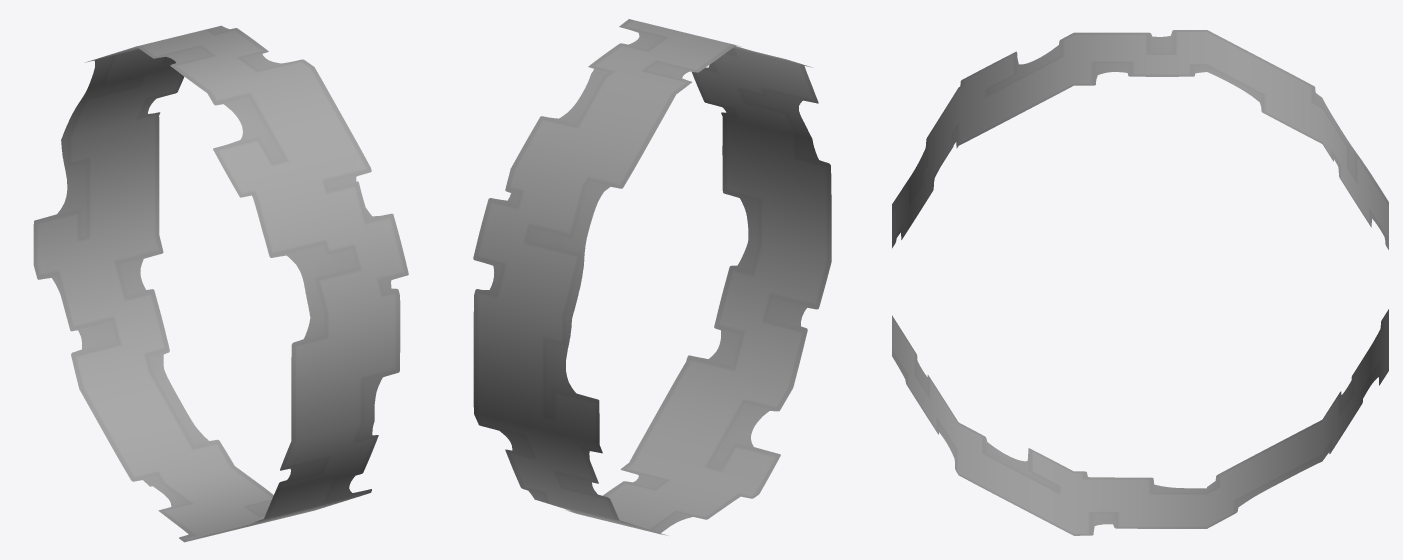
The model's file is lanceeffects_in_02.fbx.
3 views of the same model, side by side, from view 1: azimuth 30°, elevation 25°; view 2: azimuth 150°, elevation 25°; view 3: azimuth 270°, elevation 25° (orthographic).
Parts seen in each view (by area): view 1: ranceeffect_in_mesh02; view 2: ranceeffect_in_mesh02; view 3: ranceeffect_in_mesh02.
Part boxes in pixels (x1=…): ranceeffect_in_mesh02: x1=33, y1=25, x2=408, y2=542; ranceeffect_in_mesh02: x1=473, y1=19, x2=831, y2=535; ranceeffect_in_mesh02: x1=892, y1=30, x2=1388, y2=535.
Size of the model in its own units: 20.52 by 52.65 by 52.65.
1 material, 1 textured.
